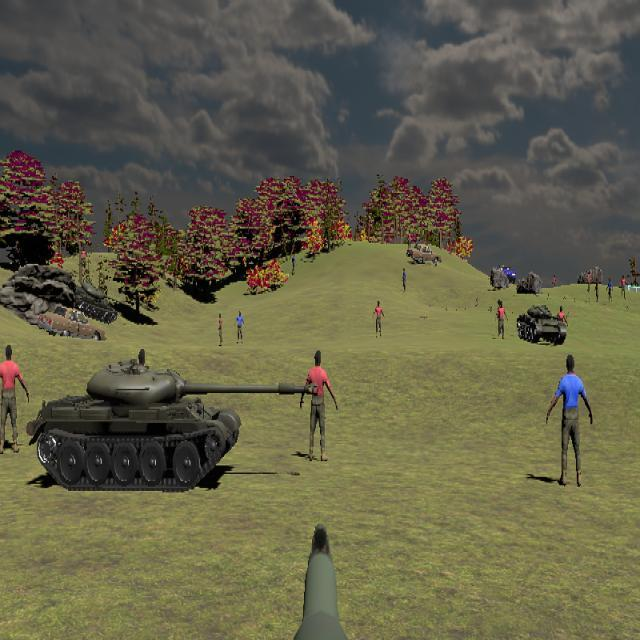Human: (546, 354, 593, 487), (299, 349, 338, 463), (0, 346, 29, 452), (495, 300, 508, 341)
Tank: (27, 359, 326, 494), (70, 283, 135, 324), (516, 304, 568, 346)
car: (38, 304, 107, 343), (406, 245, 442, 266)
